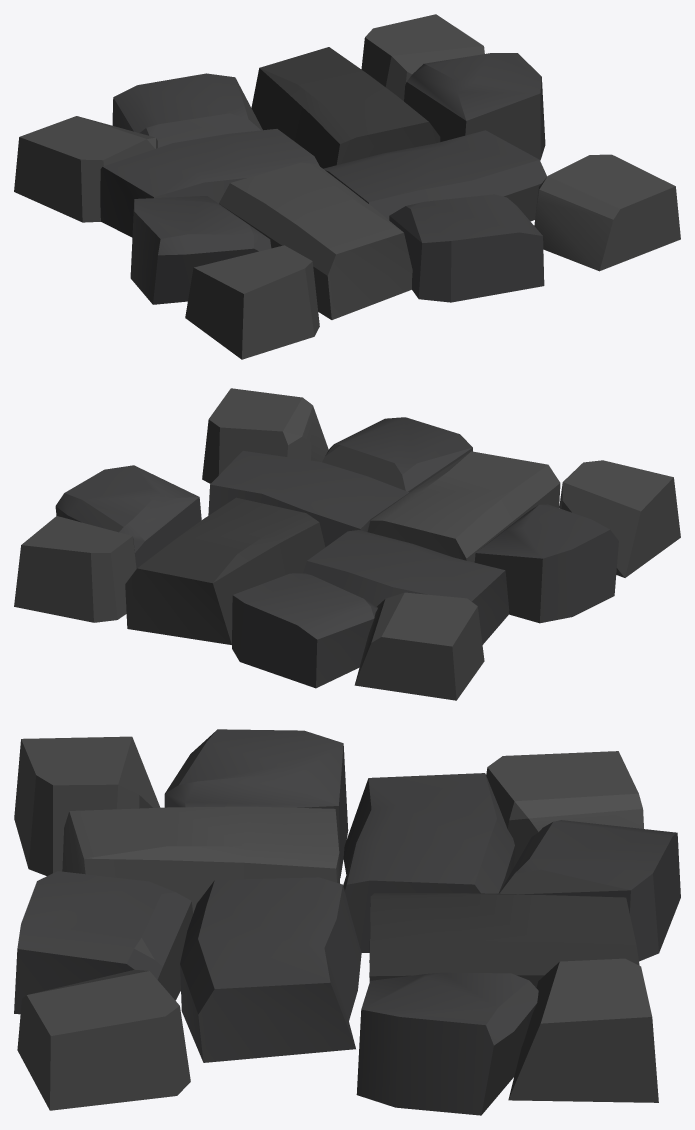
The model's file is ea01_env_road_cobble_02a_pre_22_lev1.glb.
3 views of the same model, one above another, from view 1: azimuth 30°, elevation 25°; view 2: azimuth 150°, elevation 25°; view 3: azimuth 270°, elevation 25° (orthographic). The views are drawn at different scales.
Parts seen in each view (by area): view 1: ea01_env_road_cobble_02a_pre_22_lev1; view 2: ea01_env_road_cobble_02a_pre_22_lev1; view 3: ea01_env_road_cobble_02a_pre_22_lev1.
Part boxes in pixels (box(x1,y1,x2,y2)): ea01_env_road_cobble_02a_pre_22_lev1: box(14, 14, 680, 359); ea01_env_road_cobble_02a_pre_22_lev1: box(14, 388, 680, 700); ea01_env_road_cobble_02a_pre_22_lev1: box(14, 729, 680, 1115).
Bounding box in the file's own units: 2.63 × 0.3708 × 2.44.
Materials: 1 (1 with a texture image).
